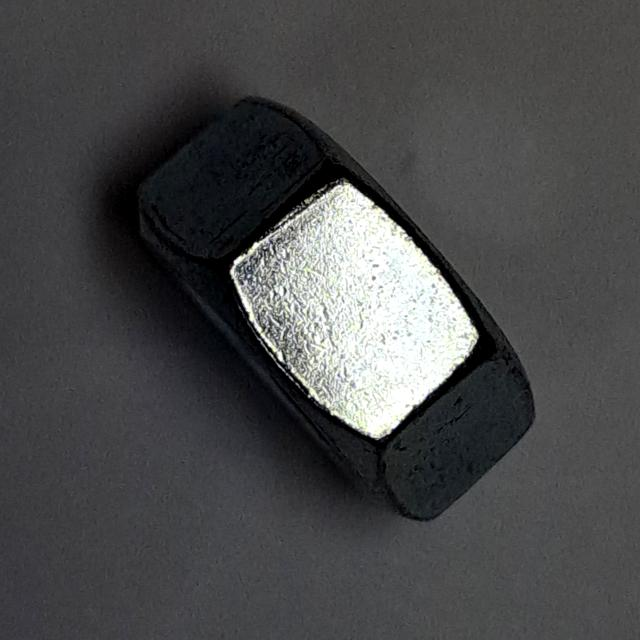Side_Excellent: (125, 85, 550, 535)
